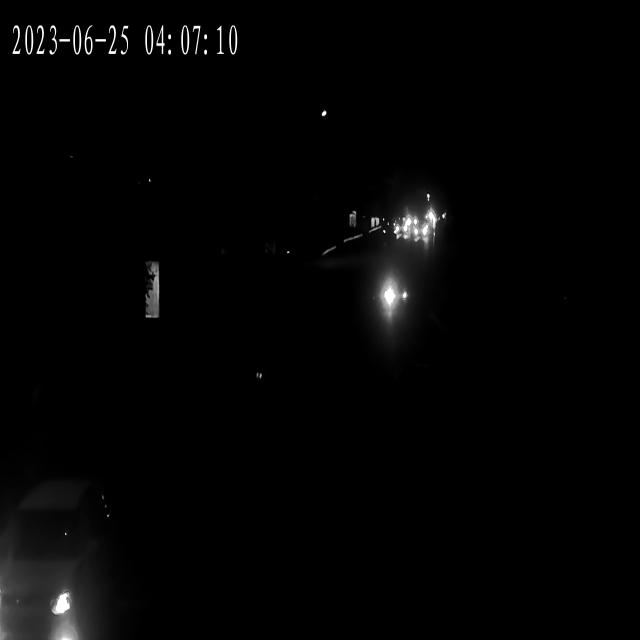Car: (10, 467, 112, 640), (371, 273, 408, 317), (393, 224, 413, 240), (410, 223, 429, 239), (412, 226, 429, 242), (392, 221, 410, 236)
